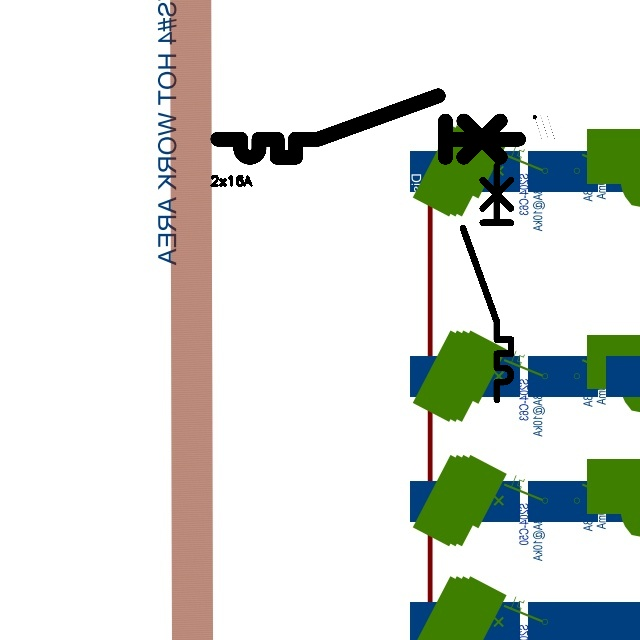interruptor_termomagnetico: (210, 88, 526, 165), (457, 159, 517, 405)
